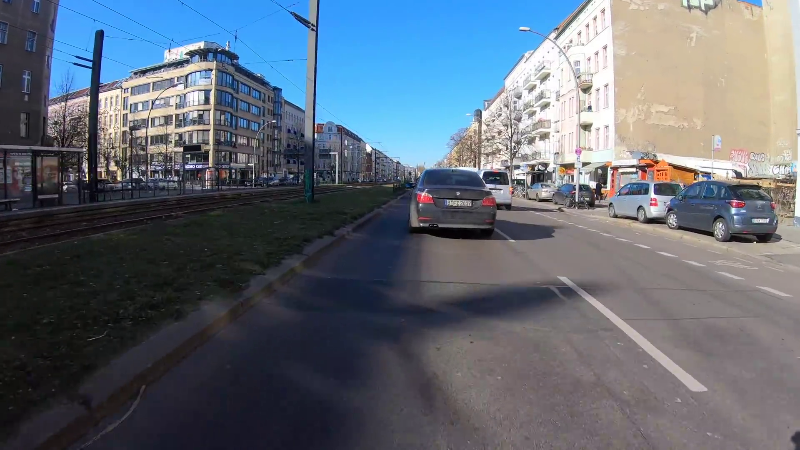Plate: (443, 197, 474, 207), (749, 216, 770, 224), (490, 188, 503, 194)
